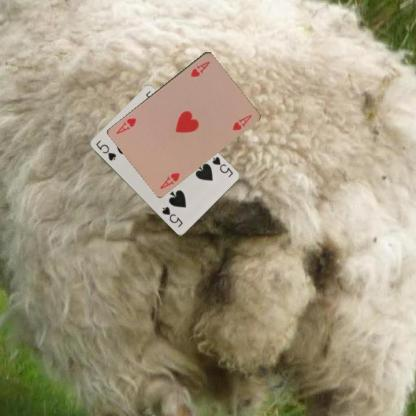5s: (93, 137, 117, 162), (209, 154, 234, 178)
Ah: (157, 169, 181, 190), (188, 58, 211, 78)
